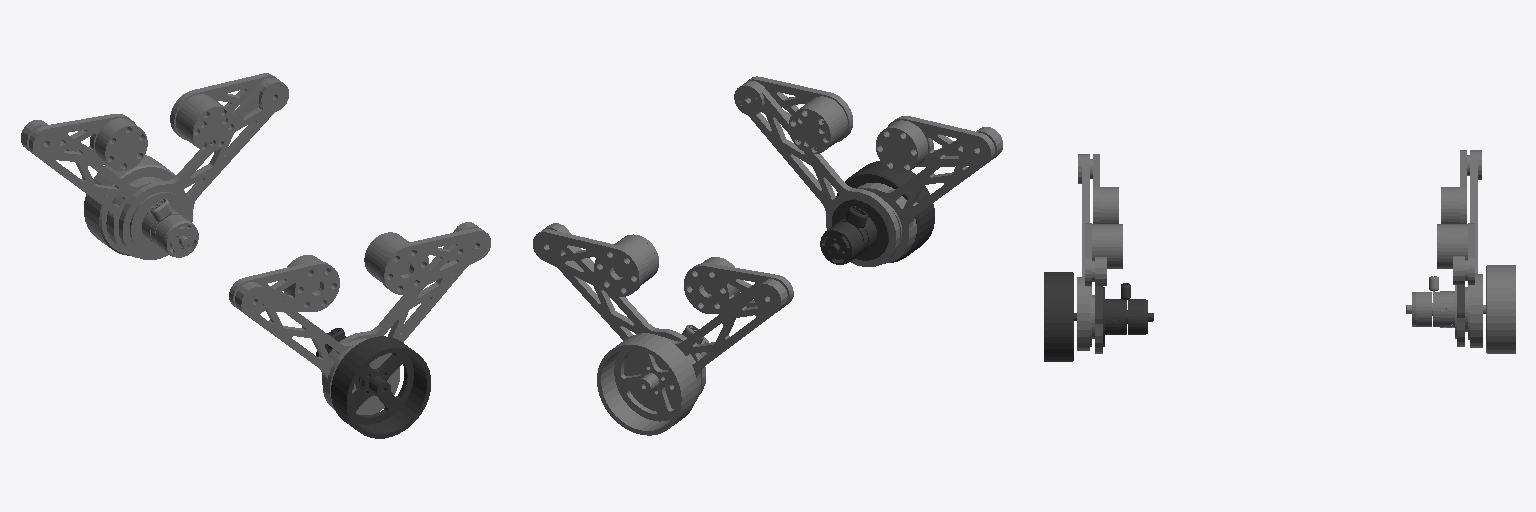
URDF robot description (wheel_leg):
<?xml version="1.0" encoding="utf-8"?>
<!-- This URDF was automatically created by SolidWorks to URDF Exporter! Originally created by Stephen Brawner (brawner@gmail.com) 
     Commit Version: 1.6.0-4-g7f85cfe  Build Version: 1.6.7995.38578
     For more information, please see http://wiki.ros.org/sw_urdf_exporter -->

<!--
  坐标系约定（本文件由 qq_down/wheel_leg 的最新 SolidWorks 导出重建）：
      base_link : x 向前 / y 向左 / z 向上（REP-103），原点在两轮接地点中点（z=0 即棋盘地面）。
  导出文件给的 base_link 是 "x 前 / y 下 / z 左"、原点在机身上方约 1 m，在 RViz 里整机是"侧躺"的。
  这里对 4 个根关节和 base_link 自身的几何做了同一个刚体变换
  （绕 x 轴 -90°，再平移 (0, -0.02668, -0.8847)）：模型形状、关节轴、连杆相对关系都没变，
  只是换了根坐标系。

  相对导出文件的其它改动（导出工具不会写这些）：
    1) lf_foint2 是 CAD 里的拼写错误，这里改回 lf_joint2；
    2) 网格路径 wheel_leg/meshes -> model/meshes（本仓库的包名是 model）；
    3) 关节限位全部是 0，已按实机补回；两个轮子改回 continuous 并补 effort/velocity；
    4) 补上 <ros2_control>（4 髋 + 2 轮，effort 命令接口）；
    5) base_link 质心导出值 z=1.0258 明显错轴，改成网格包围盒中心。

  注意：MJCF（wheel_leg.xml）仍是 CAD 原始坐标系（"x 前 / y 下 / z 左"），
  sim_bridge 的 IMU 姿态换算就是按那个约定写的，二者相差一个固定的旋转，互不影响。
-->
<robot
  name="wheel_leg">
  <link
    name="base_link">
    <inertial>
      <!-- 质心 = 网格 base_link.STL 包围盒中心（机身中心）；导出值 z=1.0258 是 CAD 轴向错误 -->
      <origin
        xyz="-0.0008 0.00002 0.1213"
        rpy="0 0 0" />
      <mass
        value="1.66745151375332" />
      <inertia
        ixx="0.0014874527795182"
        ixy="-1.51918591032443E-05"
        ixz="2.57932250432007E-08"
        iyy="0.00132542865960578"
        iyz="3.90953786244077E-07"
        izz="0.00238734792579705" />
    </inertial>
    <visual>
      <origin
        xyz="0 -0.02668 -0.8847"
        rpy="-1.5708 0 0" />
      <geometry>
        <mesh
          filename="package://model/meshes/base_link.STL" />
      </geometry>
      <material
        name="">
        <color
          rgba="0.498039215686275 0.498039215686275 0.498039215686275 1" />
      </material>
    </visual>
    <collision>
      <origin
        xyz="0 -0.02668 -0.8847"
        rpy="-1.5708 0 0" />
      <geometry>
        <mesh
          filename="package://model/meshes/base_link.STL" />
      </geometry>
    </collision>
  </link>
  <link
    name="lf_link1">
    <inertial>
      <origin
        xyz="0.00948385723400235 0.0143580791372662 -0.0103514398458525"
        rpy="0 0 0" />
      <mass
        value="0.0228632381715483" />
      <inertia
        ixx="3.04686185423604E-06"
        ixy="1.10081747934945E-06"
        ixz="4.28828329083756E-09"
        iyy="2.10739645818087E-06"
        iyz="6.49224353906418E-09"
        izz="4.59132725164512E-06" />
    </inertial>
    <visual>
      <origin
        xyz="0 0 0"
        rpy="0 0 0" />
      <geometry>
        <mesh
          filename="package://model/meshes/lf_link1.STL" />
      </geometry>
      <material
        name="">
        <color
          rgba="0.498039215686275 0.498039215686275 0.498039215686275 1" />
      </material>
    </visual>
    <collision>
      <origin
        xyz="0 0 0"
        rpy="0 0 0" />
      <geometry>
        <mesh
          filename="package://model/meshes/lf_link1.STL" />
      </geometry>
    </collision>
  </link>
  <joint
    name="lf_joint1"
    type="revolute">
    <origin
      xyz="0.029206 0.131000 0.149300"
      rpy="-1.5708 -1.1 0" />
    <parent
      link="base_link" />
    <child
      link="lf_link1" />
    <axis
      xyz="0 0 -1" />
    <limit
      lower="-2.0"
      upper="2.0"
      effort="12.0"
      velocity="20.0" />
  </joint>
  <link
    name="lf_link2">
    <inertial>
      <origin
        xyz="0.019985090582062 0.0904344951654388 -0.0103196720366778"
        rpy="0 0 0" />
      <mass
        value="0.0355326730325909" />
      <inertia
        ixx="2.01199262288752E-05"
        ixy="3.42919906932112E-06"
        ixz="2.41261221597972E-08"
        iyy="5.33549953452458E-06"
        iyz="1.09185590215989E-07"
        izz="2.52440000156163E-05" />
    </inertial>
    <visual>
      <origin
        xyz="0 0 0"
        rpy="0 0 0" />
      <geometry>
        <mesh
          filename="package://model/meshes/lf_link2.STL" />
      </geometry>
      <material
        name="">
        <color
          rgba="0.498039215686275 0.498039215686275 0.498039215686275 1" />
      </material>
    </visual>
    <collision>
      <origin
        xyz="0 0 0"
        rpy="0 0 0" />
      <geometry>
        <mesh
          filename="package://model/meshes/lf_link2.STL" />
      </geometry>
    </collision>
  </link>
  <joint
    name="lf_joint2"
    type="revolute">
    <origin
      xyz="0.0275573394802777 0.0417204151557571 0"
      rpy="0 0 2.2" />
    <parent
      link="lf_link1" />
    <child
      link="lf_link2" />
    <axis
      xyz="0 0 -1" />
    <limit
      lower="-3.1416"
      upper="3.1416"
      effort="1.0"
      velocity="20.0" />
  </joint>
  <link
    name="lefoot_link">
    <inertial>
      <origin
        xyz="-0.000169164679336475 0.000589514400822222 -0.0347413096902235"
        rpy="0 0 0" />
      <mass
        value="0.130114342543911" />
      <inertia
        ixx="1.55093123288576E-05"
        ixy="-6.29956912264913E-08"
        ixz="-5.55153505268625E-10"
        iyy="1.52660243240677E-05"
        iyz="2.1749289550854E-09"
        izz="2.33919231775256E-05" />
    </inertial>
    <visual>
      <origin
        xyz="0 0 0"
        rpy="0 0 0" />
      <geometry>
        <mesh
          filename="package://model/meshes/lefoot_link.STL" />
      </geometry>
      <material
        name="">
        <color
          rgba="0.498039215686275 0.498039215686275 0.498039215686275 1" />
      </material>
    </visual>
    <collision>
      <origin
        xyz="0 0 0"
        rpy="0 0 0" />
      <geometry>
        <mesh
          filename="package://model/meshes/lefoot_link.STL" />
      </geometry>
    </collision>
  </link>
  <joint
    name="lefoot_joint"
    type="continuous">
    <origin
      xyz="0.022658 0.10253 0.0215"
      rpy="0 0 1.3533" />
    <parent
      link="lf_link2" />
    <child
      link="lefoot_link" />
    <axis
      xyz="0 0 -1" />
    <limit
      effort="3.0"
      velocity="40.0" />
  </joint>
  <link
    name="lb_link1">
    <inertial>
      <origin
        xyz="-0.0133928913907946 0.00914000298324624 -0.00568390233836868"
        rpy="0 0 0" />
      <mass
        value="0.0157407698288876" />
      <inertia
        ixx="1.69160183155362E-06"
        ixy="-1.11451091966854E-06"
        ixz="6.42669434977837E-09"
        iyy="2.56410017625606E-06"
        iyz="-4.38590919735264E-09"
        izz="4.04885007020852E-06" />
    </inertial>
    <visual>
      <origin
        xyz="0 0 0"
        rpy="0 0 0" />
      <geometry>
        <mesh
          filename="package://model/meshes/lb_link1.STL" />
      </geometry>
      <material
        name="">
        <color
          rgba="0.498039215686275 0.498039215686275 0.498039215686275 1" />
      </material>
    </visual>
    <collision>
      <origin
        xyz="0 0 0"
        rpy="0 0 0" />
      <geometry>
        <mesh
          filename="package://model/meshes/lb_link1.STL" />
      </geometry>
    </collision>
  </link>
  <joint
    name="lb_joint1"
    type="revolute">
    <origin
      xyz="-0.030794 0.125500 0.149300"
      rpy="-1.5708 0.79 0" />
    <parent
      link="base_link" />
    <child
      link="lb_link1" />
    <axis
      xyz="0 0 -1" />
    <limit
      lower="-2.0"
      upper="2.0"
      effort="12.0"
      velocity="20.0" />
  </joint>
  <link
    name="lb_link2">
    <inertial>
      <origin
        xyz="0.00341434468767476 -0.0883877299014023 -0.00527986684678902"
        rpy="0 0 0" />
      <mass
        value="0.0441319313931042" />
      <inertia
        ixx="2.94153999852251E-05"
        ixy="-9.10046660313648E-07"
        ixz="2.40733363049648E-08"
        iyy="5.76523047848147E-06"
        iyz="-6.22232437388317E-07"
        izz="3.47959143449886E-05" />
    </inertial>
    <visual>
      <origin
        xyz="0 0 0"
        rpy="0 0 0" />
      <geometry>
        <mesh
          filename="package://model/meshes/lb_link2.STL" />
      </geometry>
      <material
        name="">
        <color
          rgba="0.498039215686275 0.498039215686275 0.498039215686275 1" />
      </material>
    </visual>
    <collision>
      <origin
        xyz="0 0 0"
        rpy="0 0 0" />
      <geometry>
        <mesh
          filename="package://model/meshes/lb_link2.STL" />
      </geometry>
    </collision>
  </link>
  <joint
    name="lb_joint2"
    type="revolute">
    <origin
      xyz="-0.041299 0.028185 0.01"
      rpy="0 0 1.5" />
    <parent
      link="lb_link1" />
    <child
      link="lb_link2" />
    <axis
      xyz="0 0 -1" />
    <limit
      lower="-3.1416"
      upper="3.1416"
      effort="1.0"
      velocity="20.0" />
  </joint>
  <link
    name="rf_link1">
    <inertial>
      <origin
        xyz="0.00856950867055647 -0.0149218465912191 -0.0103514398458418"
        rpy="0 0 0" />
      <mass
        value="0.0228632381715483" />
      <inertia
        ixx="3.18030735566914E-06"
        ixy="-1.03374270983302E-06"
        ixz="3.8748454279676E-09"
        iyy="1.97395095674778E-06"
        iyz="-6.74716034064078E-09"
        izz="4.59132725164512E-06" />
    </inertial>
    <visual>
      <origin
        xyz="0 0 0"
        rpy="0 0 0" />
      <geometry>
        <mesh
          filename="package://model/meshes/rf_link1.STL" />
      </geometry>
      <material
        name="">
        <color
          rgba="0.498039215686275 0.498039215686275 0.498039215686275 1" />
      </material>
    </visual>
    <collision>
      <origin
        xyz="0 0 0"
        rpy="0 0 0" />
      <geometry>
        <mesh
          filename="package://model/meshes/rf_link1.STL" />
      </geometry>
    </collision>
  </link>
  <joint
    name="rf_joint1"
    type="revolute">
    <origin
      xyz="0.029206 -0.131000 0.149300"
      rpy="1.5708 -1.15 0" />
    <parent
      link="base_link" />
    <child
      link="rf_link1" />
    <axis
      xyz="0 0 -1" />
    <limit
      lower="-2.0"
      upper="2.0"
      effort="12.0"
      velocity="20.0" />
  </joint>
  <link
    name="rf_link2">
    <inertial>
      <origin
        xyz="0.0412771656510127 -0.0829095733756017 -0.00435460838852823"
        rpy="0 0 0" />
      <mass
        value="0.0355326730325909" />
      <inertia
        ixx="1.76352088113909E-05"
        ixy="-6.50543681294772E-06"
        ixz="4.98379114105508E-08"
        iyy="7.82021695200882E-06"
        iyz="-1.00098678650054E-07"
        izz="2.52440000156163E-05" />
    </inertial>
    <visual>
      <origin
        xyz="0 0 0"
        rpy="0 0 0" />
      <geometry>
        <mesh
          filename="package://model/meshes/rf_link2.STL" />
      </geometry>
      <material
        name="">
        <color
          rgba="0.498039215686275 0.498039215686275 0.498039215686275 1" />
      </material>
    </visual>
    <collision>
      <origin
        xyz="0 0 0"
        rpy="0 0 0" />
      <geometry>
        <mesh
          filename="package://model/meshes/rf_link2.STL" />
      </geometry>
    </collision>
  </link>
  <joint
    name="rf_joint2"
    type="revolute">
    <origin
      xyz="0.0249005076512295 -0.0433585599243225 0"
      rpy="0 0 -2.45" />
    <parent
      link="rf_link1" />
    <child
      link="rf_link2" />
    <axis
      xyz="0 0 -1" />
    <limit
      lower="-3.1416"
      upper="3.1416"
      effort="1.0"
      velocity="20.0" />
  </joint>
  <link
    name="rifoot_link">
    <inertial>
      <origin
        xyz="-0.000197701326216104 -0.000475094687381494 -0.0329594986613461"
        rpy="0 0 0" />
      <mass
        value="0.15505019042519" />
      <inertia
        ixx="1.8771315349037E-05"
        ixy="1.04625723425938E-07"
        ixz="-9.19186264343438E-10"
        iyy="1.85945710947337E-05"
        iyz="-2.07173266778658E-09"
        izz="2.9826085386239E-05" />
    </inertial>
    <visual>
      <origin
        xyz="0 0 0"
        rpy="0 0 0" />
      <geometry>
        <mesh
          filename="package://model/meshes/rifoot_link.STL" />
      </geometry>
      <material
        name="">
        <color
          rgba="0.266666666666667 0.266666666666667 0.266666666666667 1" />
      </material>
    </visual>
    <collision>
      <origin
        xyz="0 0 0"
        rpy="0 0 0" />
      <geometry>
        <mesh
          filename="package://model/meshes/rifoot_link.STL" />
      </geometry>
    </collision>
  </link>
  <joint
    name="rifoot_joint"
    type="continuous">
    <origin
      xyz="0.046796 -0.093996 0.0215"
      rpy="0 0 -1.1089" />
    <parent
      link="rf_link2" />
    <child
      link="rifoot_link" />
    <axis
      xyz="0 0 -1" />
    <limit
      effort="3.0"
      velocity="40.0" />
  </joint>
  <link
    name="rb_link1">
    <inertial>
      <origin
        xyz="-0.00915664091865879 -0.0133815216400779 -0.00568390233836866"
        rpy="0 0 0" />
      <mass
        value="0.0157407698288876" />
      <inertia
        ixx="2.56132855081977E-06"
        ixy="1.11559183698975E-06"
        ixz="4.39389305450335E-09"
        iyy="1.69437345698991E-06"
        iyz="6.42123847700385E-09"
        izz="4.04885007020851E-06" />
    </inertial>
    <visual>
      <origin
        xyz="0 0 0"
        rpy="0 0 0" />
      <geometry>
        <mesh
          filename="package://model/meshes/rb_link1.STL" />
      </geometry>
      <material
        name="">
        <color
          rgba="0.498039215686275 0.498039215686275 0.498039215686275 1" />
      </material>
    </visual>
    <collision>
      <origin
        xyz="0 0 0"
        rpy="0 0 0" />
      <geometry>
        <mesh
          filename="package://model/meshes/rb_link1.STL" />
      </geometry>
    </collision>
  </link>
  <joint
    name="rb_joint1"
    type="revolute">
    <origin
      xyz="-0.030794 -0.125496 0.149300"
      rpy="1.5708 1.1 0" />
    <parent
      link="base_link" />
    <child
      link="rb_link1" />
    <axis
      xyz="0 0 -1" />
    <limit
      lower="-2.0"
      upper="2.0"
      effort="12.0"
      velocity="20.0" />
  </joint>
  <link
    name="rb_link2">
    <inertial>
      <origin
        xyz="0.0360808709755146 0.08076025814845 0.00472013315321243"
        rpy="0 0 0" />
      <mass
        value="0.0441319313931042" />
      <inertia
        ixx="2.54999782369476E-05"
        ixy="8.83730985618463E-06"
        ixz="2.53969132017522E-07"
        iyy="9.68065222675904E-06"
        iyz="5.68552910151196E-07"
        izz="3.47959143449886E-05" />
    </inertial>
    <visual>
      <origin
        xyz="0 0 0"
        rpy="0 0 0" />
      <geometry>
        <mesh
          filename="package://model/meshes/rb_link2.STL" />
      </geometry>
      <material
        name="">
        <color
          rgba="0.498039215686275 0.498039215686275 0.498039215686275 1" />
      </material>
    </visual>
    <collision>
      <origin
        xyz="0 0 0"
        rpy="0 0 0" />
      <geometry>
        <mesh
          filename="package://model/meshes/rb_link2.STL" />
      </geometry>
    </collision>
  </link>
  <joint
    name="rb_joint2"
    type="revolute">
    <origin
      xyz="-0.028236 -0.041264 0"
      rpy="0 0 -0.8" />
    <parent
      link="rb_link1" />
    <child
      link="rb_link2" />
    <axis
      xyz="0 0 -1" />
    <limit
      lower="-3.1416"
      upper="3.1416"
      effort="1.0"
      velocity="20.0" />
  </joint>
  <!-- ==================== ros2_control：4 驱动髋(effort) + 2 轮(effort) ==================== -->
  <ros2_control name="wheel_leg_system" type="system">
    <hardware>
      <plugin>mujoco_ros2_control/MujocoSystem</plugin>
    </hardware>
    <!-- 左前髋 / 左后髋 / 右前髋 / 右后髋：VMC 力矩控制 -->
    <joint name="lf_joint1">
      <command_interface name="effort"/>
      <state_interface name="position"/>
      <state_interface name="velocity"/>
      <state_interface name="effort"/>
    </joint>
    <joint name="lb_joint1">
      <command_interface name="effort"/>
      <state_interface name="position"/>
      <state_interface name="velocity"/>
      <state_interface name="effort"/>
    </joint>
    <joint name="rf_joint1">
      <command_interface name="effort"/>
      <state_interface name="position"/>
      <state_interface name="velocity"/>
      <state_interface name="effort"/>
    </joint>
    <joint name="rb_joint1">
      <command_interface name="effort"/>
      <state_interface name="position"/>
      <state_interface name="velocity"/>
      <state_interface name="effort"/>
    </joint>
    <!-- 左右轮：力矩直通 -->
    <joint name="lefoot_joint">
      <command_interface name="effort"/>
      <state_interface name="position"/>
      <state_interface name="velocity"/>
      <state_interface name="effort"/>
    </joint>
    <joint name="rifoot_joint">
      <command_interface name="effort"/>
      <state_interface name="position"/>
      <state_interface name="velocity"/>
      <state_interface name="effort"/>
    </joint>
  </ros2_control>
</robot>

--- Facts derived from the render (not from the file) ---
3 views of the same robot in one strip: view 1: azimuth 30°, elevation 25°; view 2: azimuth 150°, elevation 25°; view 3: azimuth 270°, elevation 25° (orthographic).
Model wheel_leg with 11 links and 10 joints (8 revolute, 2 continuous), rooted at base_link, posed all joints at 0.
Links seen in each view (by area): view 1: rifoot_link, lf_link2, rf_link1, lb_link1, lefoot_link, rb_link2, lf_link1, rb_link1, lb_link2, rf_link2; view 2: lefoot_link, lf_link1, rifoot_link, rf_link2, rb_link1, lb_link2, rf_link1, rb_link2, lb_link1, lf_link2; view 3: rifoot_link, lefoot_link, lb_link2, rb_link2, rf_link1, lf_link1, lb_link1, rb_link1, rf_link2, lf_link2.
Boxes of the visible links, bbox=[...] form: rifoot_link: bbox=[316, 328, 430, 438]; lf_link2: bbox=[119, 78, 288, 259]; rf_link1: bbox=[364, 228, 490, 294]; lb_link1: bbox=[29, 114, 147, 170]; lefoot_link: bbox=[84, 155, 198, 257]; rb_link2: bbox=[235, 282, 399, 414]; lf_link1: bbox=[170, 73, 284, 151]; rb_link1: bbox=[229, 255, 339, 311]; lb_link2: bbox=[21, 120, 162, 257]; rf_link2: bbox=[322, 222, 480, 384]; lefoot_link: bbox=[597, 325, 708, 435]; lf_link1: bbox=[533, 229, 658, 296]; rifoot_link: bbox=[820, 161, 934, 264]; rf_link2: bbox=[734, 81, 899, 266]; rb_link1: bbox=[876, 116, 994, 172]; lb_link2: bbox=[624, 279, 787, 411]; rf_link1: bbox=[739, 76, 852, 153]; rb_link2: bbox=[857, 127, 1002, 263]; lb_link1: bbox=[684, 257, 793, 313]; lf_link2: bbox=[543, 223, 705, 394]; rifoot_link: bbox=[1044, 272, 1153, 361]; lefoot_link: bbox=[1406, 265, 1515, 353]; lb_link2: bbox=[1468, 150, 1482, 347]; rb_link2: bbox=[1077, 154, 1091, 350]; rf_link1: bbox=[1085, 223, 1122, 285]; lf_link1: bbox=[1437, 223, 1474, 284]; lb_link1: bbox=[1441, 150, 1469, 223]; rb_link1: bbox=[1090, 154, 1118, 223]; rf_link2: bbox=[1090, 257, 1106, 353]; lf_link2: bbox=[1453, 256, 1467, 346].
Bounding box of the posed robot: 0.1793 × 0.316 × 0.1147 m (x, y, z).
10 mesh visuals loaded from 11 distinct referenced files (10 binary STL); not drawn: 1 (reference not matched to a file when rendering).
